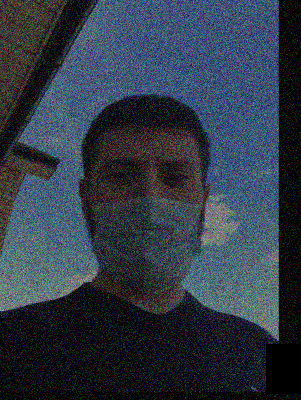with_mask: (93, 148, 202, 294)
